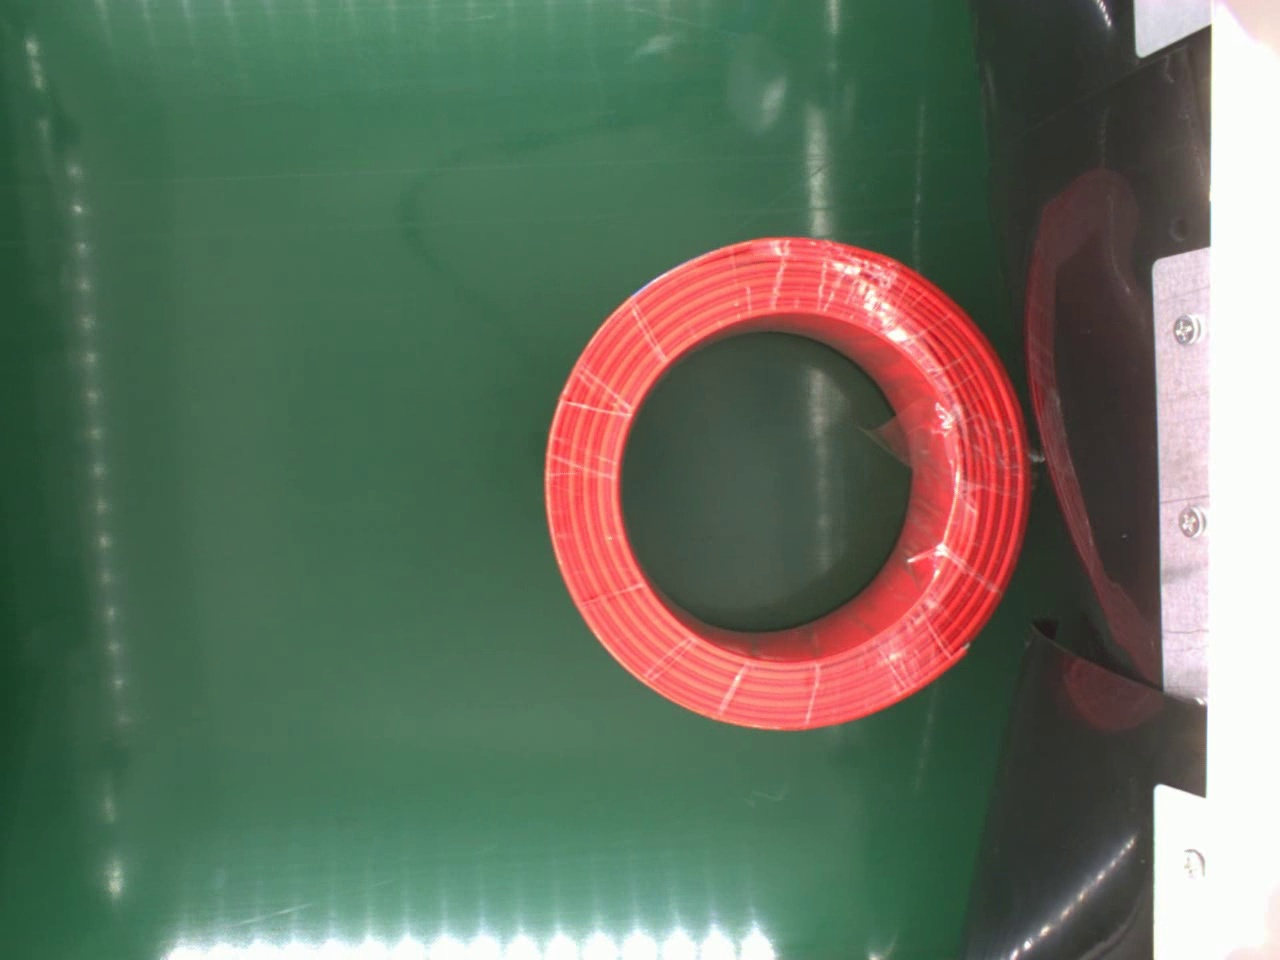red: (537, 234, 1033, 731)
